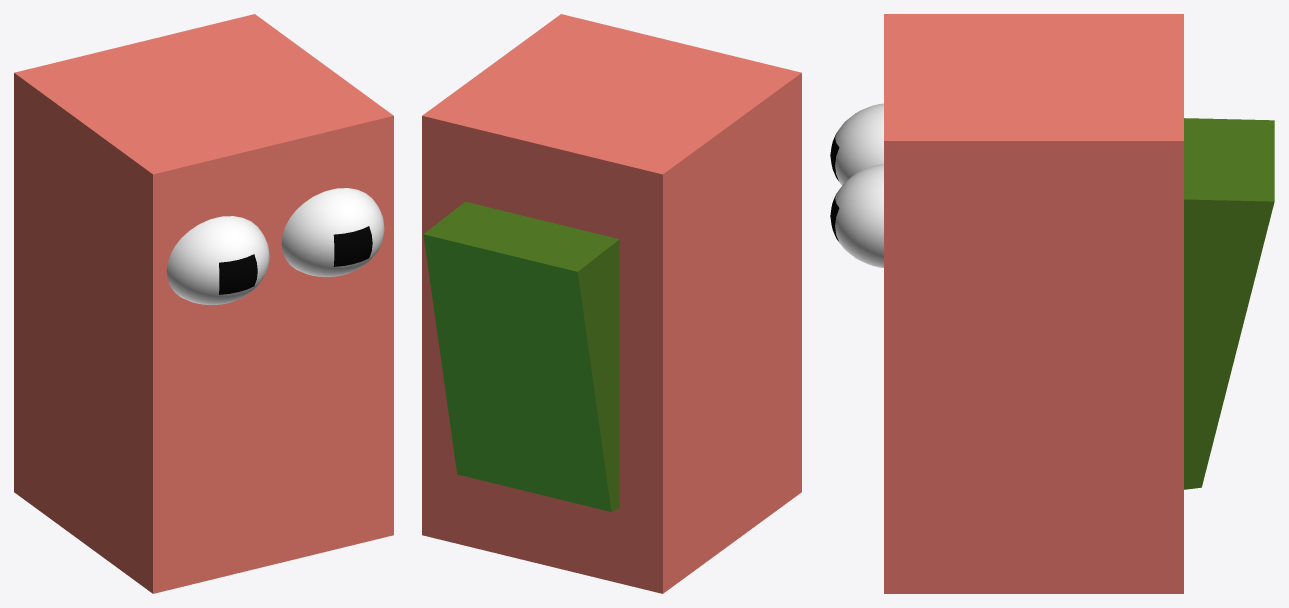
File: Rebox Player.fbx
3 renders of one model, left to right at view 1: azimuth 30°, elevation 25°; view 2: azimuth 150°, elevation 25°; view 3: azimuth 270°, elevation 25°, orthographic. The views are drawn at different scales.
Parts seen in each view (by area): view 1: Sphere; view 2: Sphere; view 3: Sphere.
Part boxes in pixels (x1=…): Sphere: x1=14, y1=14, x2=393, y2=593; Sphere: x1=422, y1=14, x2=801, y2=593; Sphere: x1=830, y1=14, x2=1274, y2=593.
Size of the model in its own units: 150 by 250 by 222.
